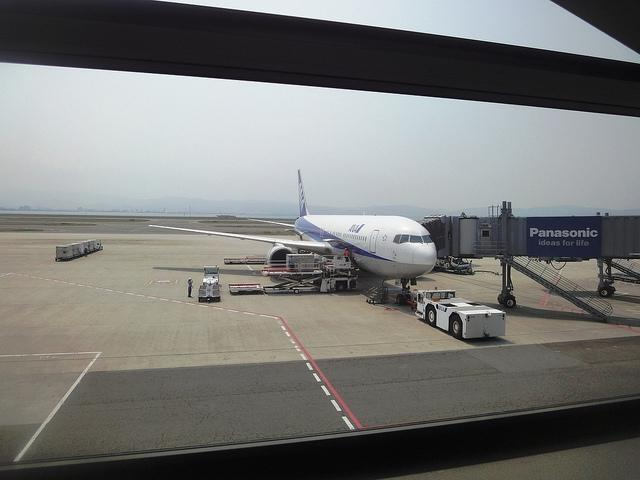truck: (416, 286, 506, 338), (56, 238, 104, 262), (202, 264, 220, 286)
